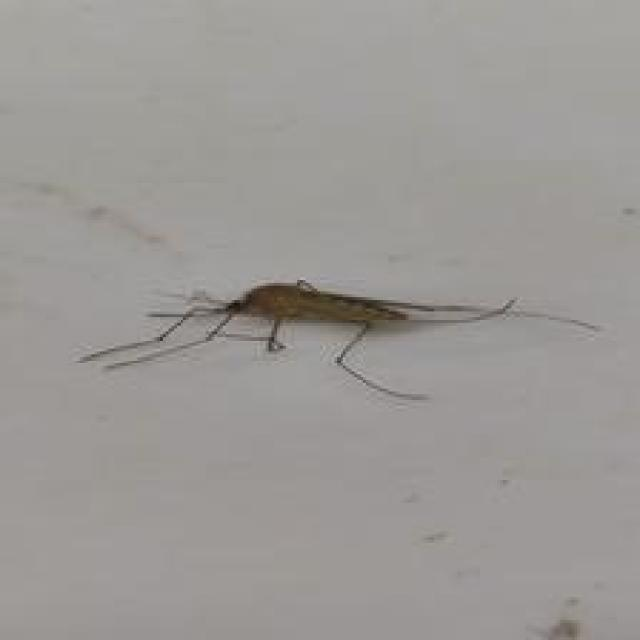Culex: (74, 276, 603, 404)
